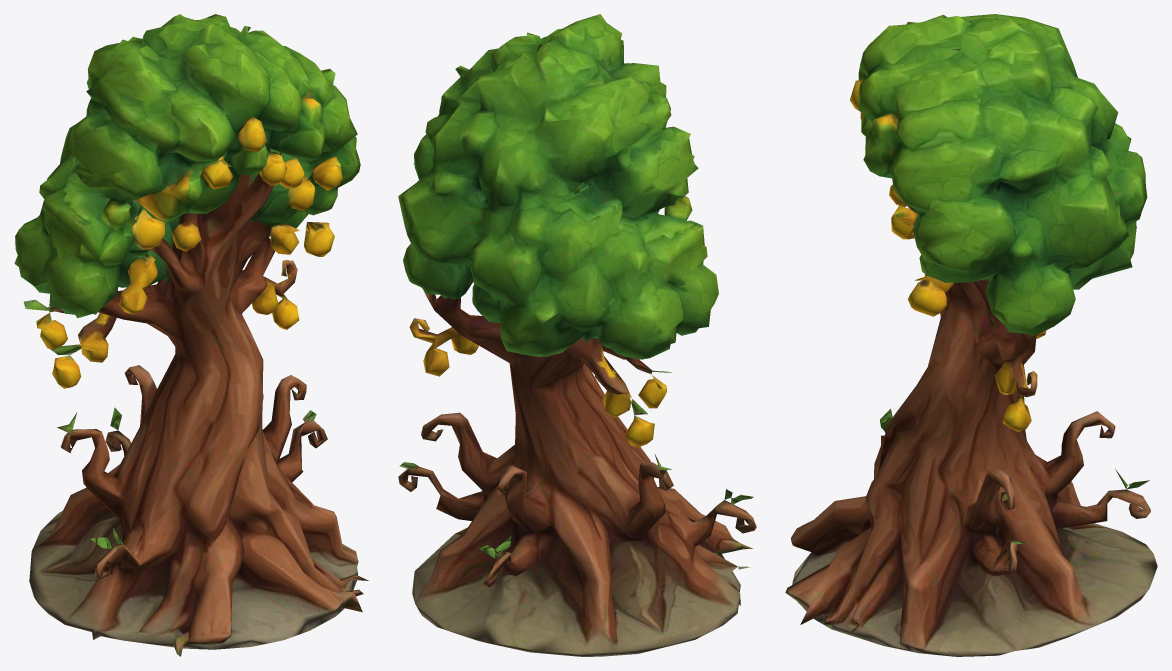
File: worldTree.glb
3 views of the same model, side by side, from view 1: azimuth 30°, elevation 25°; view 2: azimuth 150°, elevation 25°; view 3: azimuth 270°, elevation 25° (orthographic). The views are drawn at different scales.
Bounding box in the file's own units: 1.07 × 1.89 × 1.1.
1 material, 1 textured.
